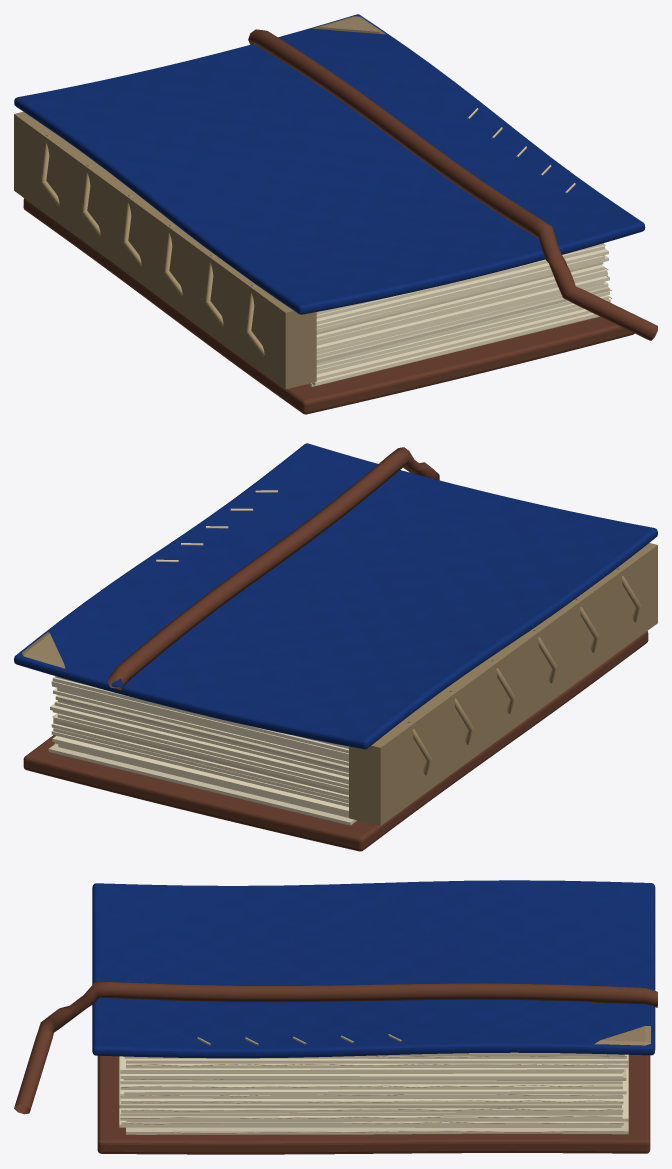
The picture shows the model from 3 angles, top to bottom: view 1: azimuth 30°, elevation 25°; view 2: azimuth 150°, elevation 25°; view 3: azimuth 270°, elevation 25°; orthographic projection. The views are drawn at different scales.
Visible parts, largest first — view 1: Bent field cover, Wrapped spine skin.001, Flexible lower cover, Loose leather binding tie, Uneven paper signature.059, Uneven paper signature.044, Uneven paper signature.052, Uneven paper signature.055, Uneven paper signature.043, Uneven paper signature.049, Uneven paper signature.047, Uneven paper signature.058 (+10 smaller); view 2: Bent field cover, Wrapped spine skin.001, Flexible lower cover, Loose leather binding tie, Uneven paper signature.042, Uneven paper signature.045, Uneven paper signature.053, Uneven paper signature.056, Uneven paper signature.048, Uneven paper signature.051, Uneven paper signature.057, Uneven paper signature.054 (+12 smaller); view 3: Bent field cover, Flexible lower cover, Loose leather binding tie, Uneven paper signature.042, Uneven paper signature.054, Uneven paper signature.053, Uneven paper signature.057, Uneven paper signature.050, Uneven paper signature.061, Uneven paper signature.049, Uneven paper signature.059, Uneven paper signature.060 (+21 smaller).
Boxes of the visible parts, <box> form: Bent field cover: <box>14,14,645,314</box>; Wrapped spine skin.001: <box>14,111,316,389</box>; Flexible lower cover: <box>23,198,634,414</box>; Loose leather binding tie: <box>248,29,657,340</box>; Uneven paper signature.059: <box>316,248,608,324</box>; Uneven paper signature.044: <box>316,309,591,380</box>; Uneven paper signature.052: <box>316,276,609,351</box>; Uneven paper signature.055: <box>316,264,604,340</box>; Uneven paper signature.043: <box>312,313,598,385</box>; Uneven paper signature.049: <box>316,287,609,362</box>; Uneven paper signature.047: <box>316,295,608,369</box>; Uneven paper signature.058: <box>316,255,604,328</box>; Bent field cover: <box>14,443,657,749</box>; Wrapped spine skin.001: <box>349,543,657,825</box>; Flexible lower cover: <box>23,631,648,851</box>; Loose leather binding tie: <box>107,447,439,690</box>; Uneven paper signature.042: <box>48,744,356,825</box>; Uneven paper signature.045: <box>52,736,348,813</box>; Uneven paper signature.053: <box>50,704,348,782</box>; Uneven paper signature.056: <box>55,695,348,771</box>; Uneven paper signature.048: <box>51,723,348,799</box>; Uneven paper signature.051: <box>57,713,348,788</box>; Uneven paper signature.057: <box>53,688,348,765</box>; Uneven paper signature.054: <box>54,700,348,776</box>; Bent field cover: <box>92,880,655,1058</box>; Flexible lower cover: <box>97,1054,650,1154</box>; Loose leather binding tie: <box>14,981,657,1114</box>; Uneven paper signature.042: <box>126,1121,628,1134</box>; Uneven paper signature.054: <box>120,1081,622,1089</box>; Uneven paper signature.053: <box>124,1068,626,1095</box>; Uneven paper signature.057: <box>120,1072,623,1079</box>; Uneven paper signature.050: <box>121,1098,623,1104</box>; Uneven paper signature.061: <box>126,1054,628,1063</box>; Uneven paper signature.049: <box>119,1056,621,1108</box>; Uneven paper signature.059: <box>121,1056,624,1072</box>; Uneven paper signature.060: <box>126,1063,628,1068</box>.
Bounding box in the file's own units: 0.1643 × 0.0578 × 0.2564.
Materials: 7 (1 with a texture image).
